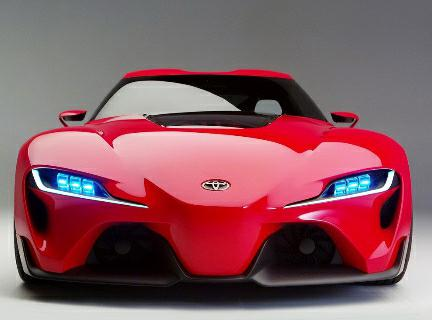丰田-FT-1: (10, 63, 419, 300)
